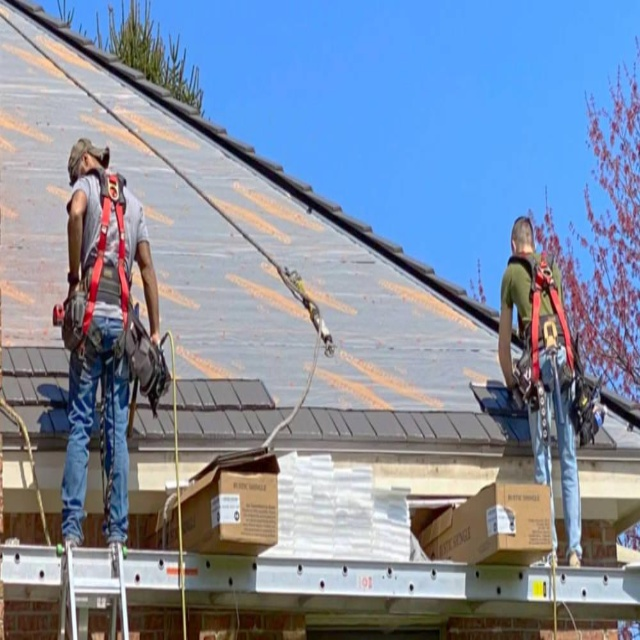Arnes_seguridad: (74, 175, 134, 403), (522, 250, 578, 429)
